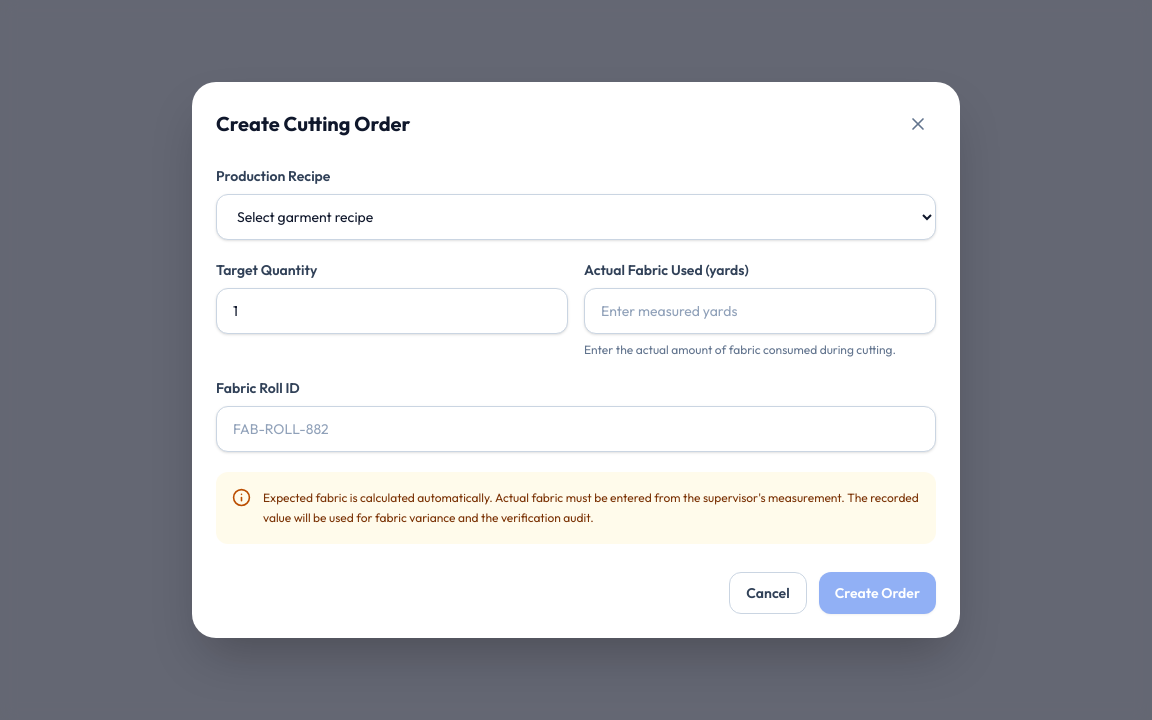
Test: CreateOrderModal › calculates expected fabric from recipe and quantity
Select "Casual Blouse (REC-BL01)" in the dropdown labelled "Production Recipe": (576, 217) [216,194,936,240]
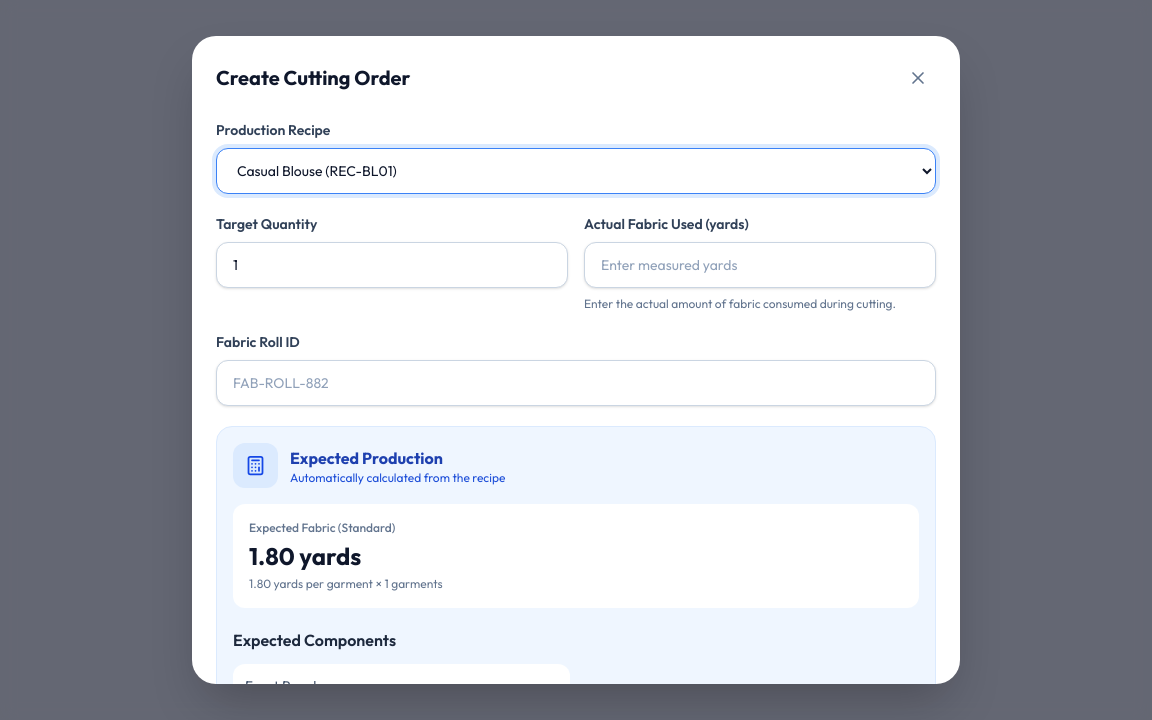
Expected: the text "1.80 yards" is shown, [249,541,361,571]
Replace the text in the number field labelled "Target Quantity" with "20": (392, 265) [216,242,568,288]
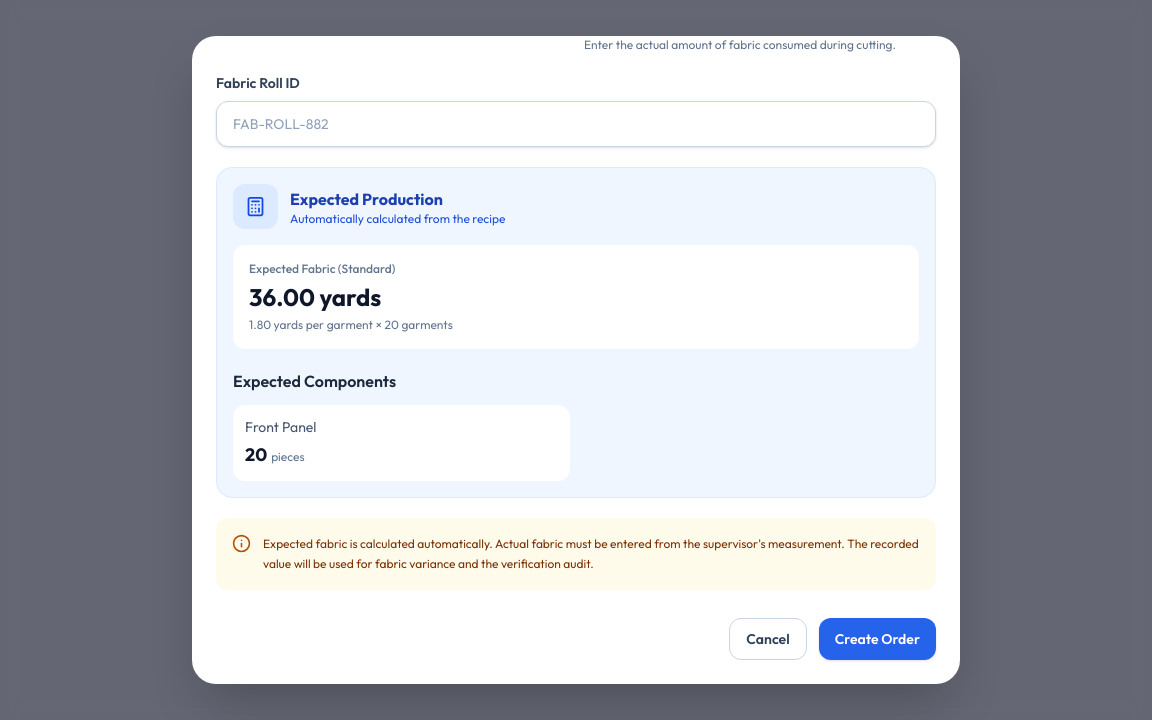
Expected: the text "Front Panel" is shown, [245,418,316,436]
Expected: the text "36.00 yards" is shown, [249,282,381,312]
Expected: the text "20" is shown, [245,443,267,466]
